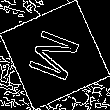M_E: (23, 24, 87, 86)
